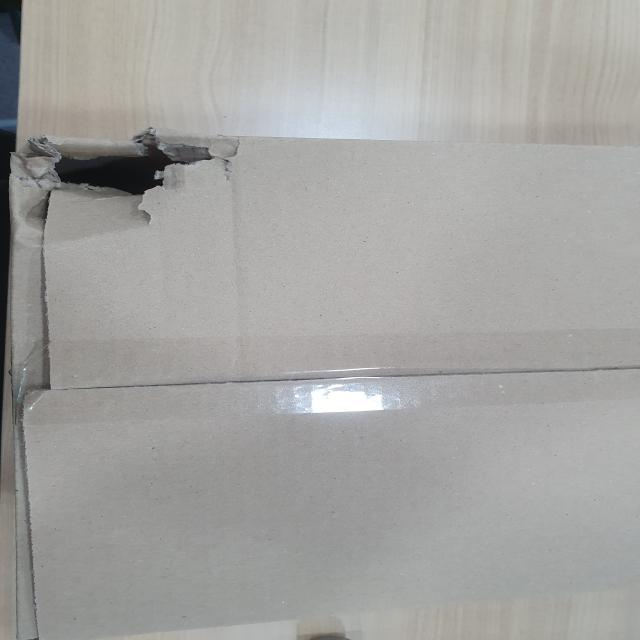hole: (16, 137, 226, 217)
